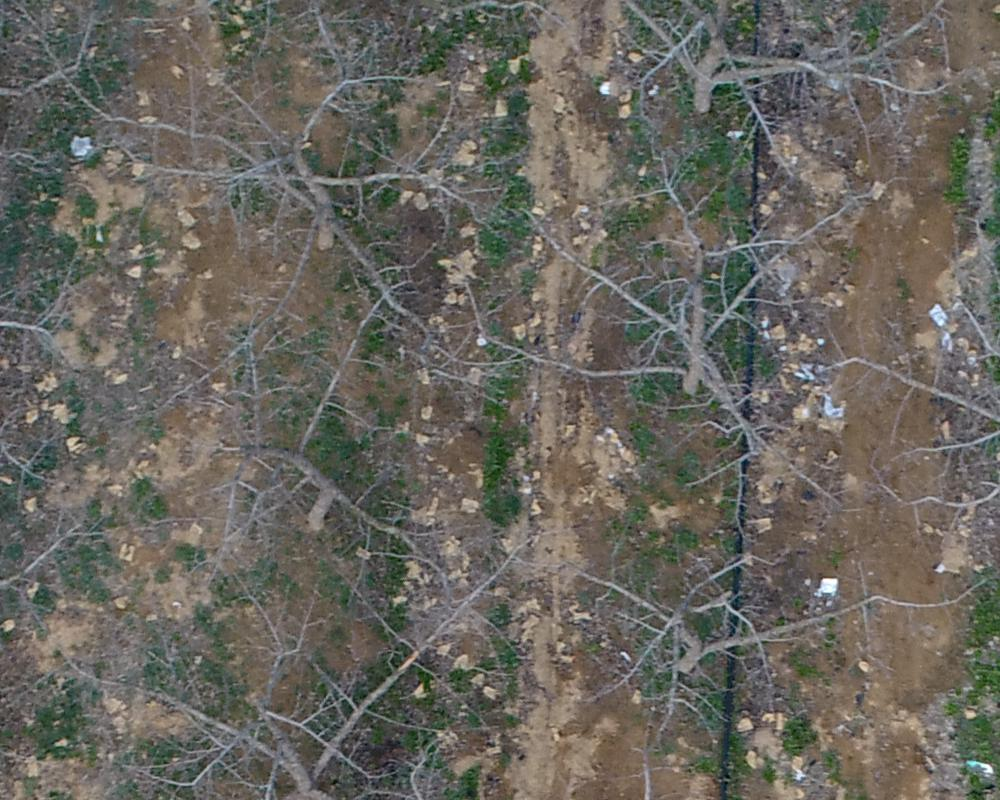apple: (489, 153, 855, 490), (101, 26, 477, 352), (107, 560, 496, 790), (547, 528, 911, 773), (187, 297, 463, 603)
